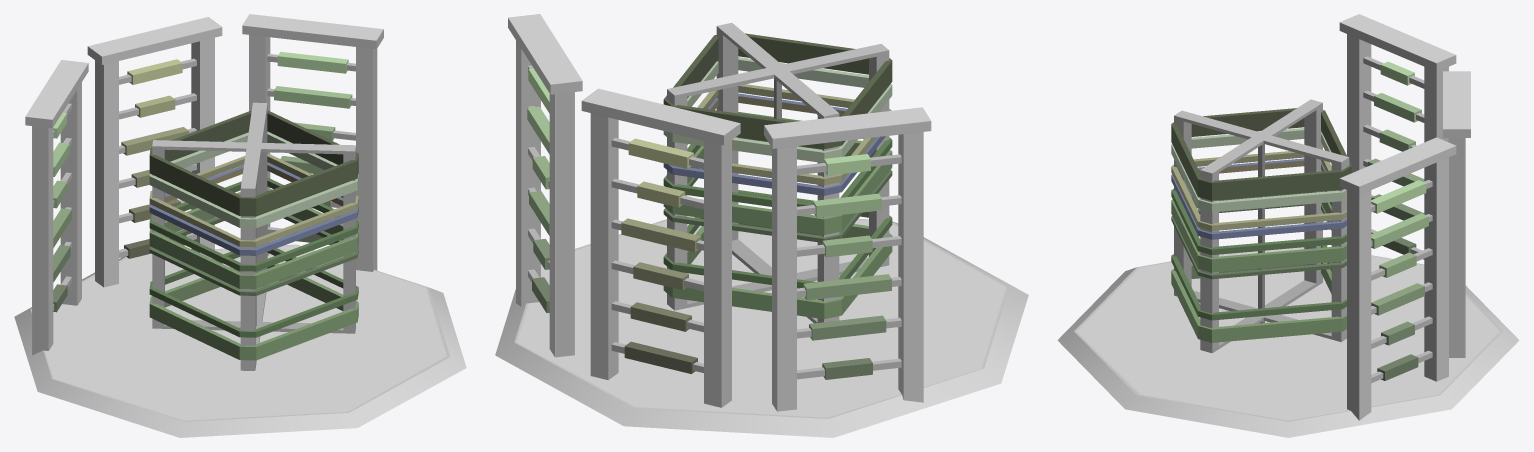
File: WeavingMachine_anim 1.fbx
3 views of the same model, side by side, from view 1: azimuth 30°, elevation 25°; view 2: azimuth 150°, elevation 25°; view 3: azimuth 270°, elevation 25° (orthographic). The views are drawn at different scales.
Parts seen in each view (by area): view 1: Weaving_Machine, Wheel; view 2: Weaving_Machine, Wheel; view 3: Weaving_Machine, Wheel.
Part boxes in pixels (x1=…): Weaving_Machine: x1=14, y1=14, x2=466, y2=437; Wheel: x1=149, y1=102, x2=358, y2=370; Weaving_Machine: x1=495, y1=14, x2=1028, y2=437; Wheel: x1=663, y1=23, x2=892, y2=323; Weaving_Machine: x1=1057, y1=14, x2=1519, y2=437; Wheel: x1=1171, y1=99, x2=1351, y2=353.
Bounding box in the file's own units: 322 × 184 × 322.
